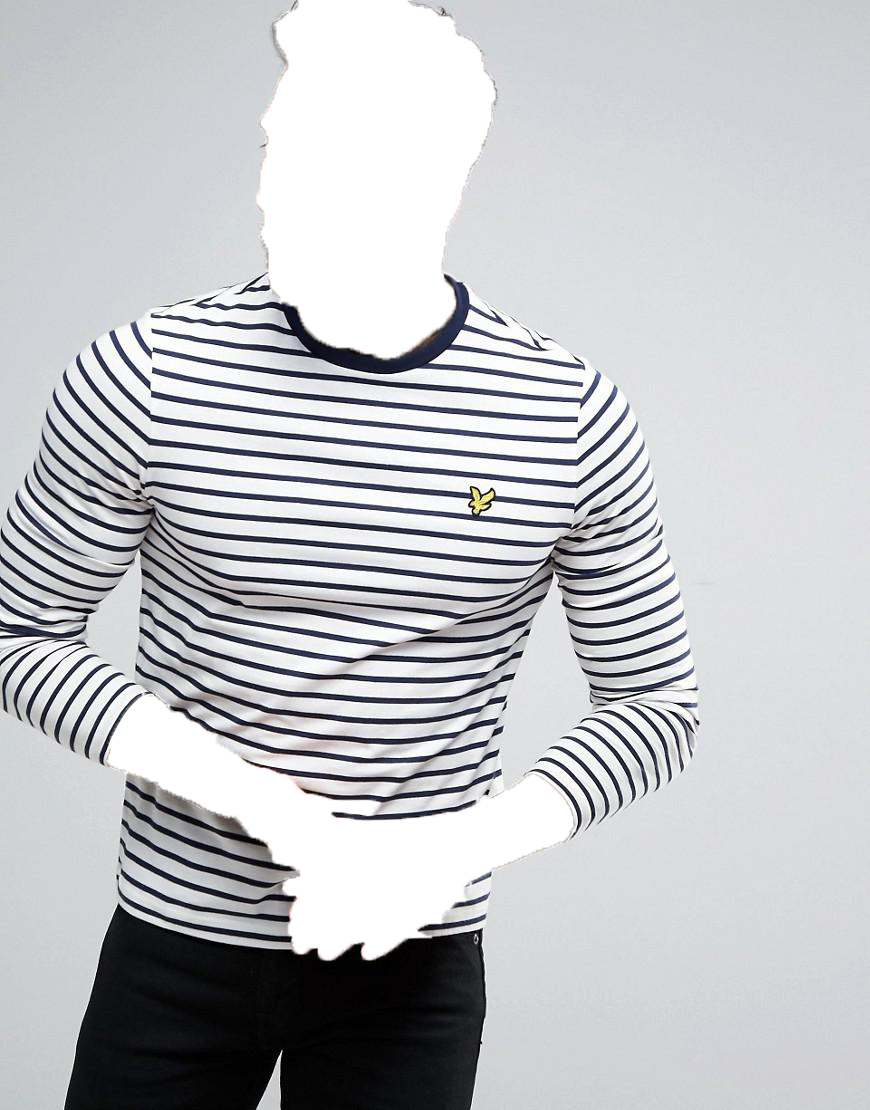teeshirt: (1, 269, 705, 971)
